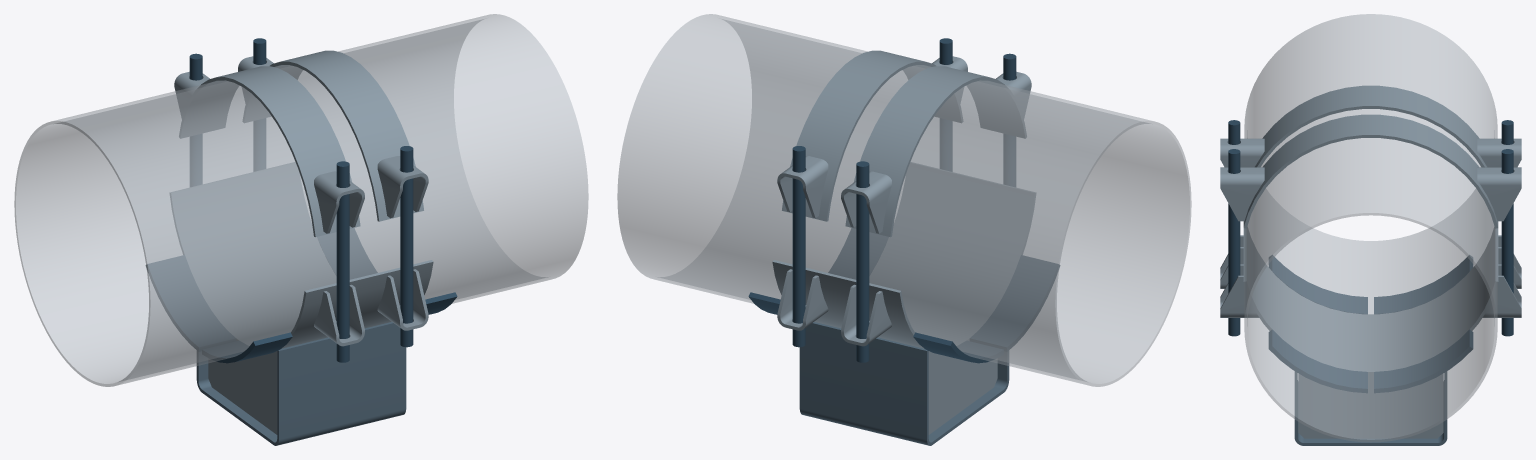
The model's file is TS-671.00.00-11-opora-dn630-H200.glb.
The picture shows the model from 3 angles, left to right: view 1: azimuth 30°, elevation 25°; view 2: azimuth 150°, elevation 25°; view 3: azimuth 270°, elevation 25°; orthographic projection. The views are drawn at different scales.
Visible parts, largest first — view 1: truba, podushka_0, skoba_1, bugel_podushka_-1_0, bugel_podushka_1_0, upor_-1_1, rebro_2, shpilka_1_-1, shpilka_-1_-1, bugel_ushko_-1_2, bugel_ushko_1_2, ushko_8 (+6 smaller); view 2: truba, podushka_0, skoba_1, bugel_podushka_-1_0, bugel_podushka_1_0, upor_-1_-1, rebro_2, shpilka_1_1, shpilka_-1_1, bugel_ushko_-1_1, bugel_ushko_1_1, ushko_7 (+6 smaller); view 3: truba, podushka_0, rebro_4, bugel_podushka_1_0, bugel_podushka_-1_0, upor_1_1, upor_1_-1, skoba_1, upor_-1_1, upor_-1_-1, bugel_ushko_1_1, bugel_ushko_1_2 (+10 smaller).
Part boxes in pixels (x1,y1,x2,y2): truba: (14, 14, 588, 386); podushka_0: (170, 162, 433, 348); skoba_1: (196, 322, 406, 445); bugel_podushka_-1_0: (179, 66, 360, 237); bugel_podushka_1_0: (243, 50, 423, 221); upor_-1_1: (145, 255, 235, 351); rebro_2: (208, 351, 277, 434); shpilka_1_-1: (400, 146, 413, 347); shpilka_-1_-1: (336, 161, 349, 362); bugel_ushko_-1_2: (314, 171, 364, 233); bugel_ushko_1_2: (377, 156, 428, 218); ushko_8: (314, 284, 364, 346); truba: (617, 14, 1191, 386); podushka_0: (772, 162, 1035, 348); skoba_1: (799, 322, 1009, 445); bugel_podushka_-1_0: (845, 66, 1026, 237); bugel_podushka_1_0: (782, 50, 962, 221); upor_-1_-1: (970, 255, 1060, 351); rebro_2: (928, 351, 997, 434); shpilka_1_1: (792, 146, 805, 347); shpilka_-1_1: (856, 161, 869, 362); bugel_ushko_-1_1: (841, 171, 891, 233); bugel_ushko_1_1: (777, 156, 828, 218); ushko_7: (841, 284, 891, 346); truba: (1244, 14, 1497, 442); podushka_0: (1243, 227, 1498, 374); rebro_4: (1298, 373, 1443, 438); bugel_podushka_1_0: (1243, 114, 1498, 228); bugel_podushka_-1_0: (1255, 85, 1486, 167); upor_1_1: (1374, 329, 1473, 393); upor_1_-1: (1268, 329, 1367, 393); skoba_1: (1294, 371, 1447, 445); upor_-1_1: (1374, 255, 1473, 314); upor_-1_-1: (1268, 255, 1367, 314); bugel_ushko_1_1: (1477, 167, 1521, 221); bugel_ushko_1_2: (1220, 167, 1264, 221).
Size of the model in its own units: 1170 by 841 by 750.
